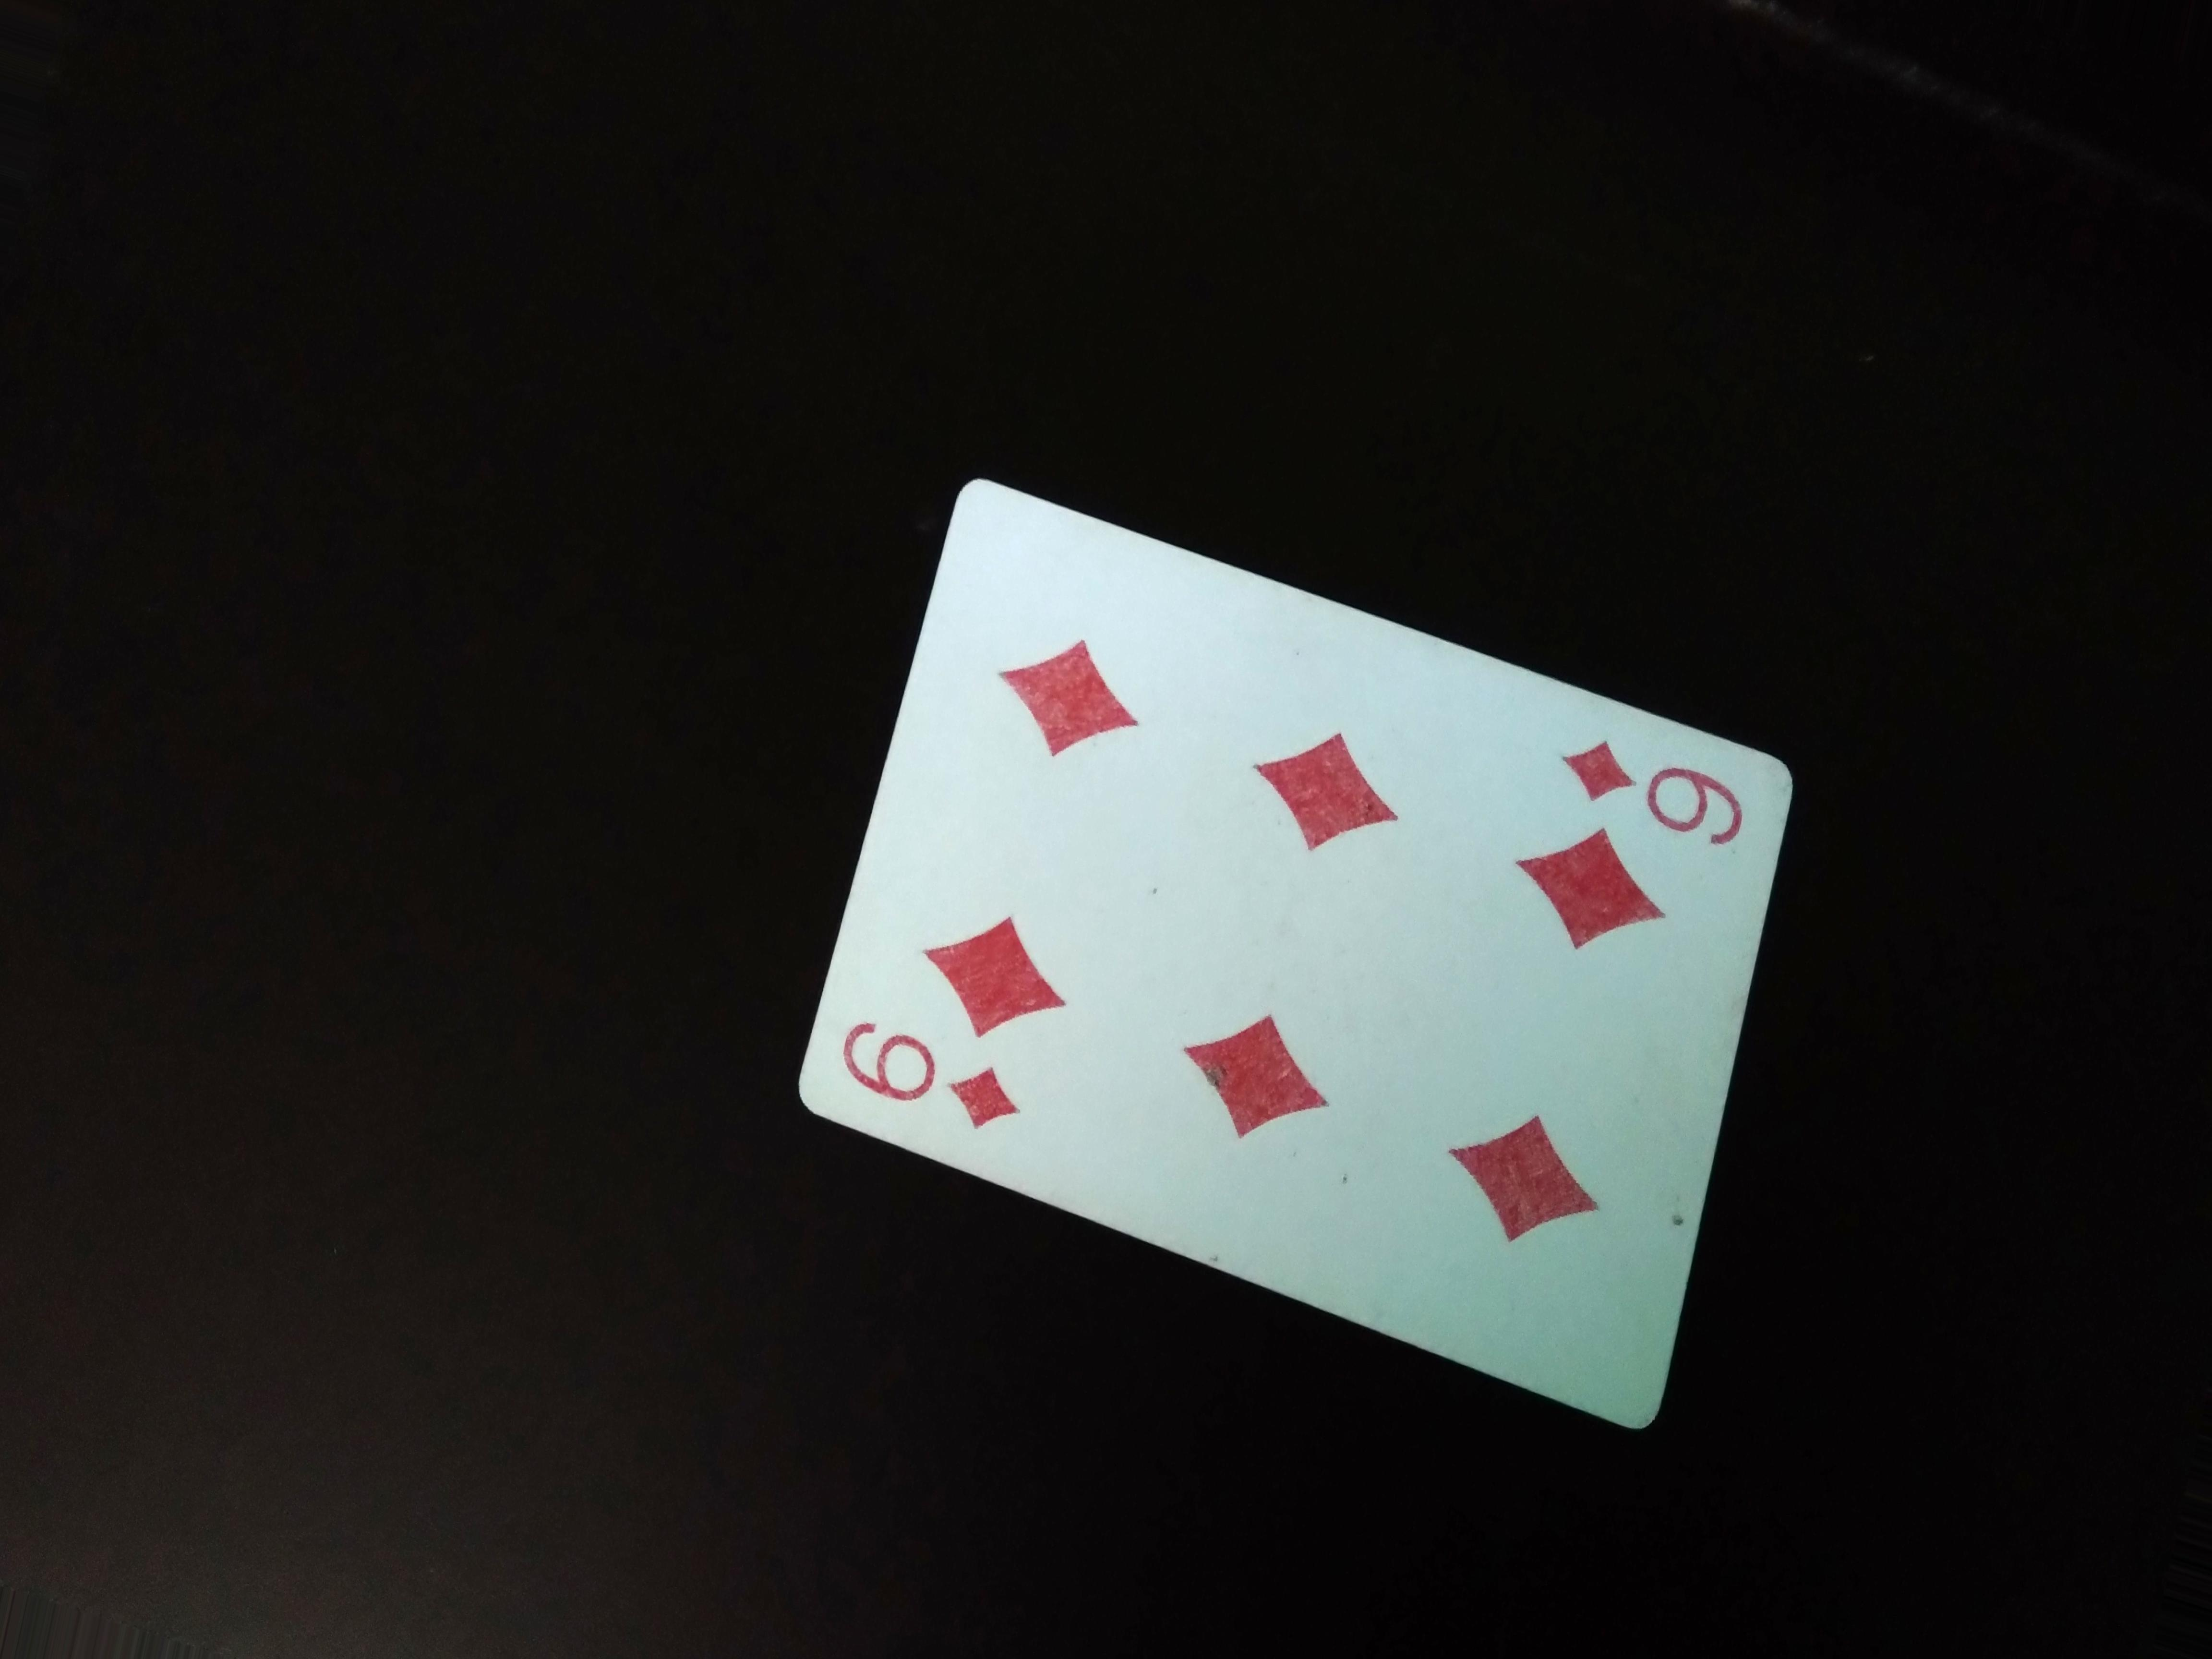6D: (820, 1009, 1033, 1161)
